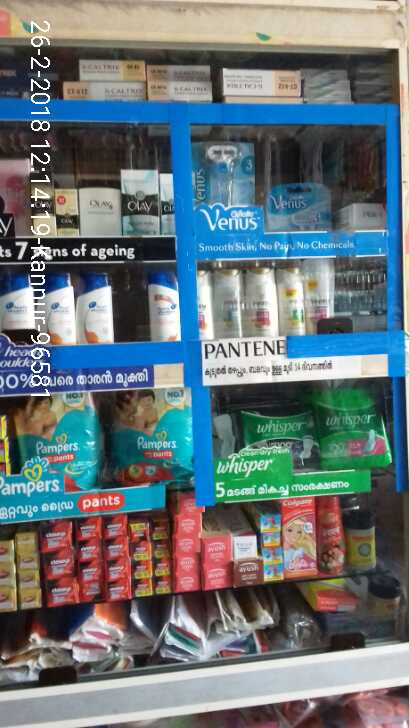venus: (195, 140, 256, 204), (268, 184, 333, 235)
